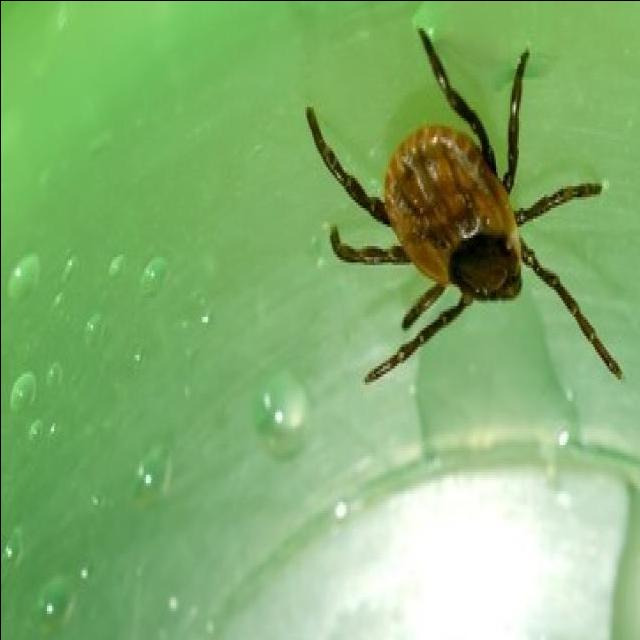Rhipicephalus Sanguineus-F: (306, 25, 622, 384)
